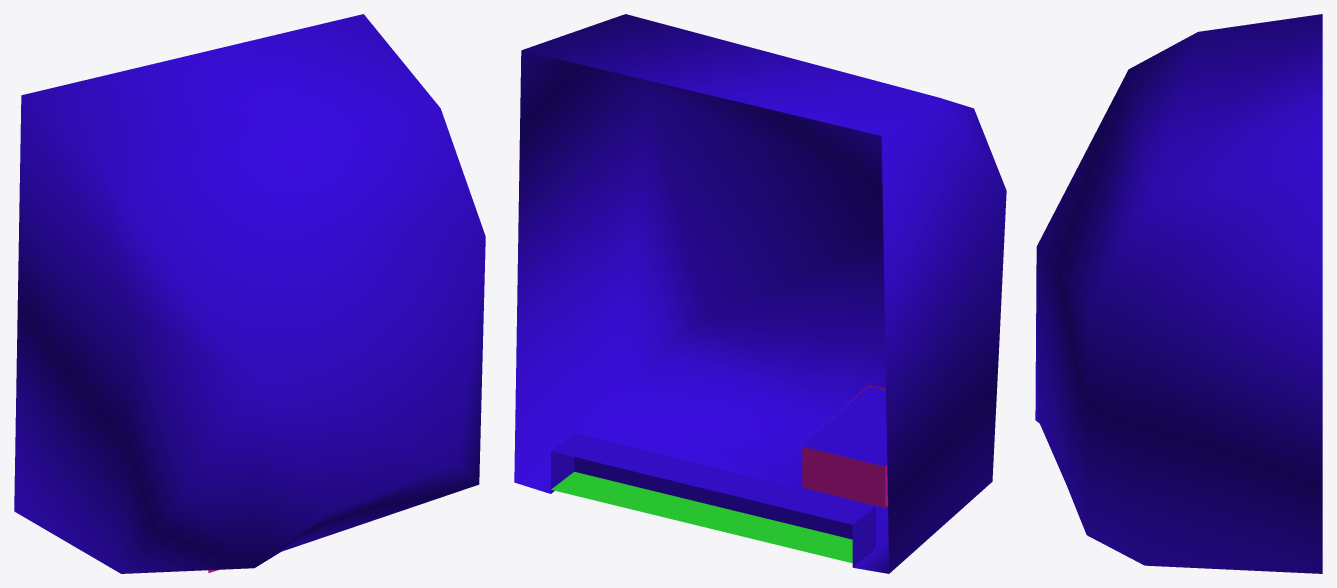
File: dryer.fbx
3 renders of one model, left to right at view 1: azimuth 30°, elevation 25°; view 2: azimuth 150°, elevation 25°; view 3: azimuth 270°, elevation 25°, orthographic. The views are drawn at different scales.
Parts seen in each view (by area): view 1: drayer; view 2: drayer; view 3: drayer.
Boxes of the visible parts, left/top/right/bottom form: drayer: left=14, top=14, right=485, bottom=573; drayer: left=514, top=14, right=1006, bottom=573; drayer: left=1035, top=14, right=1322, bottom=573.
Bounding box in the file's own units: 139 × 156 × 102.
